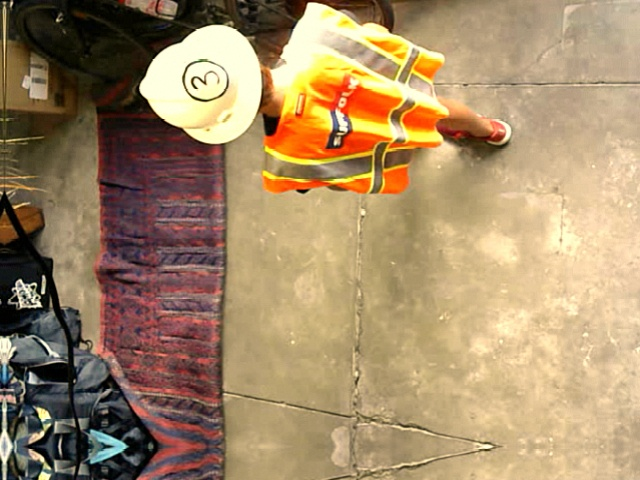three: (181, 58, 228, 100)
